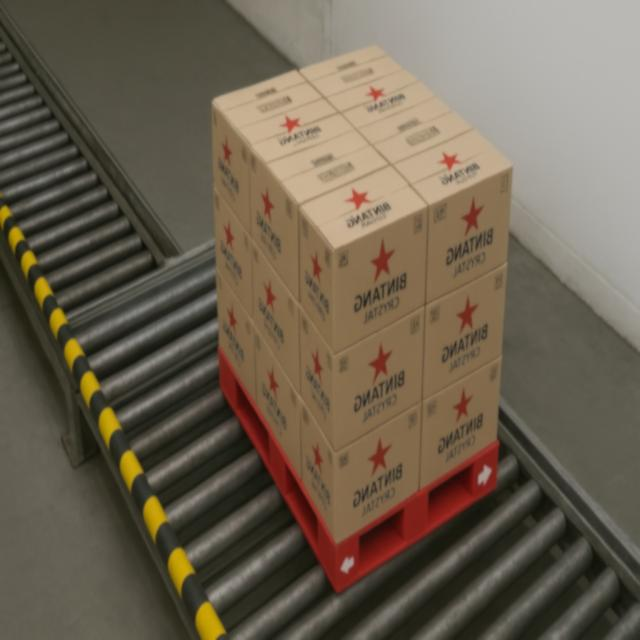pallet: (210, 38, 515, 598)
